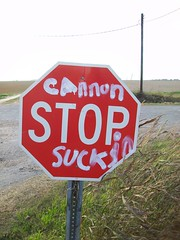StopSign: (17, 59, 142, 180)
